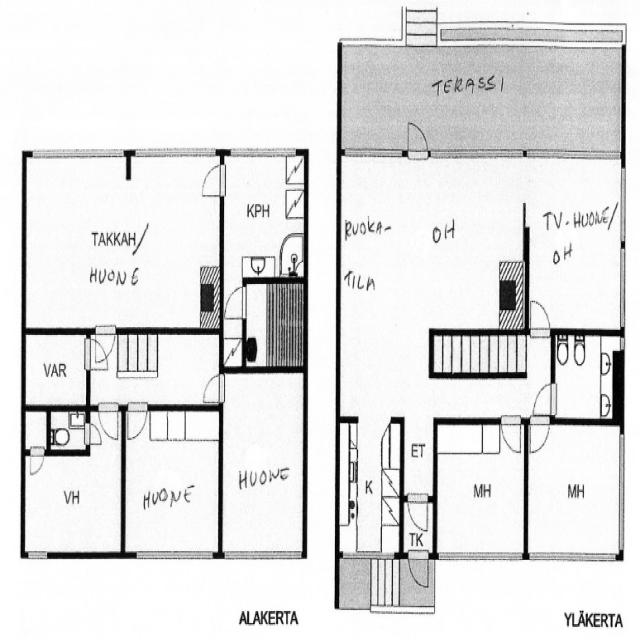door: (527, 288, 553, 338), (195, 161, 231, 196), (528, 376, 559, 415), (404, 117, 429, 164), (222, 280, 246, 326), (527, 417, 550, 465), (196, 376, 228, 408), (498, 414, 522, 456), (95, 404, 118, 444), (125, 404, 147, 445), (410, 550, 430, 593), (93, 326, 115, 363), (406, 496, 428, 533), (85, 340, 109, 373), (29, 446, 45, 484)
window: (618, 163, 628, 339), (526, 142, 616, 161), (135, 144, 214, 160), (526, 552, 616, 566), (133, 545, 210, 561), (437, 550, 523, 564), (617, 432, 626, 557), (343, 144, 405, 162), (340, 542, 392, 563), (429, 147, 521, 158), (29, 146, 127, 156), (228, 144, 296, 158), (221, 550, 298, 562), (26, 546, 44, 560)
zone: (333, 147, 527, 417), (25, 153, 224, 331), (526, 152, 623, 337), (222, 368, 304, 556), (125, 403, 219, 553), (521, 422, 620, 564), (434, 422, 526, 553), (14, 449, 124, 554), (222, 147, 306, 279), (337, 416, 401, 559), (242, 279, 308, 370), (18, 328, 89, 406)
